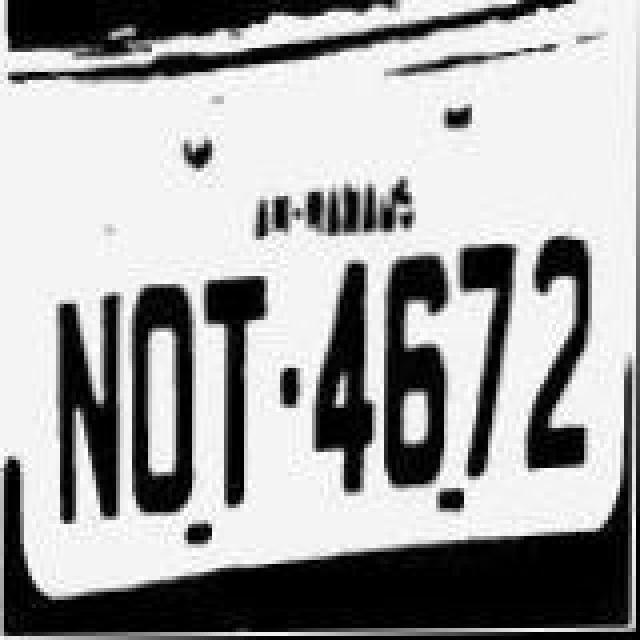2: (526, 232, 606, 476)
4: (310, 258, 382, 502)
6: (382, 248, 454, 496)
7: (452, 230, 520, 478)
N: (46, 274, 126, 530)
O: (128, 268, 204, 528)
T: (202, 270, 274, 518)
